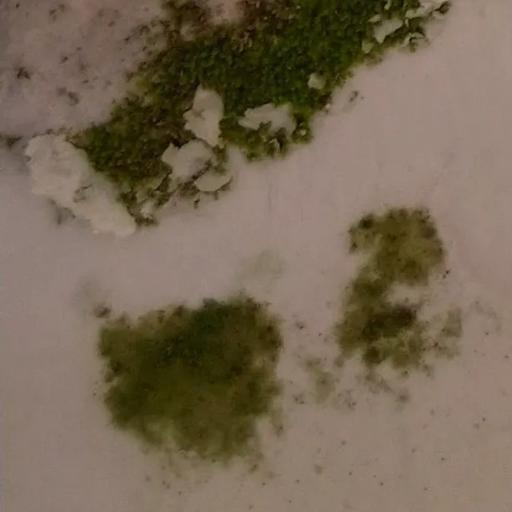algae: (82, 0, 469, 512)
